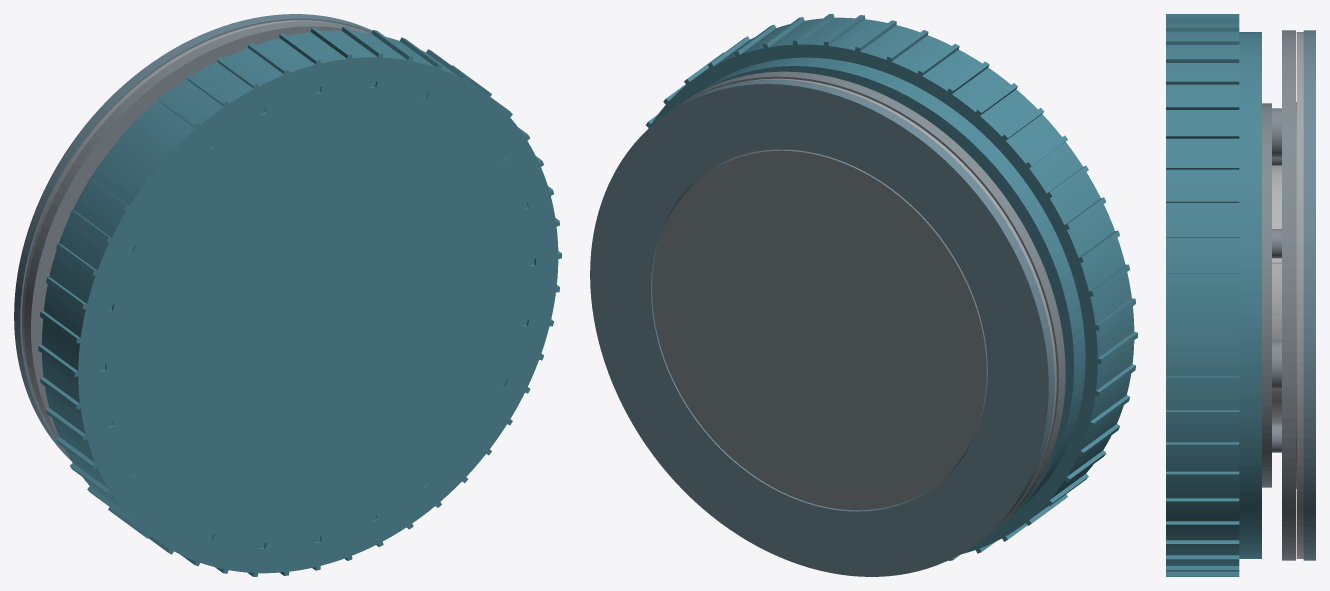
The model's file is V2_assembled.glb.
3 views of the same model, side by side, from view 1: azimuth 30°, elevation 25°; view 2: azimuth 150°, elevation 25°; view 3: azimuth 270°, elevation 25° (orthographic).
Visible parts, largest first — view 1: Cap_circular, Base_V2_Discrete, Magnet_Carrier_V2, Steel_Backing_V2; view 2: Base_V2_Discrete, Magnet_Carrier_V2, Cap_circular, Steel_Backing_V2; view 3: Cap_circular, Base_V2_Discrete, Magnet_Carrier_V2, Steel_Backing_V2, Electronic_BT1.
Part boxes in pixels (x1,y1,x2,y2): Cap_circular: (38, 27, 561, 576); Base_V2_Discrete: (24, 21, 371, 451); Magnet_Carrier_V2: (14, 14, 372, 461); Steel_Backing_V2: (21, 20, 345, 426); Base_V2_Discrete: (652, 71, 1065, 535); Magnet_Carrier_V2: (590, 79, 1054, 576); Cap_circular: (645, 14, 1137, 560); Steel_Backing_V2: (739, 78, 1056, 483); Cap_circular: (1166, 14, 1261, 576); Base_V2_Discrete: (1262, 30, 1296, 560); Magnet_Carrier_V2: (1303, 30, 1315, 560); Steel_Backing_V2: (1296, 32, 1303, 558); Electronic_BT1: (1272, 165, 1281, 423).
Size of the model in its own units: 61.6 by 61.6 by 16.4.
